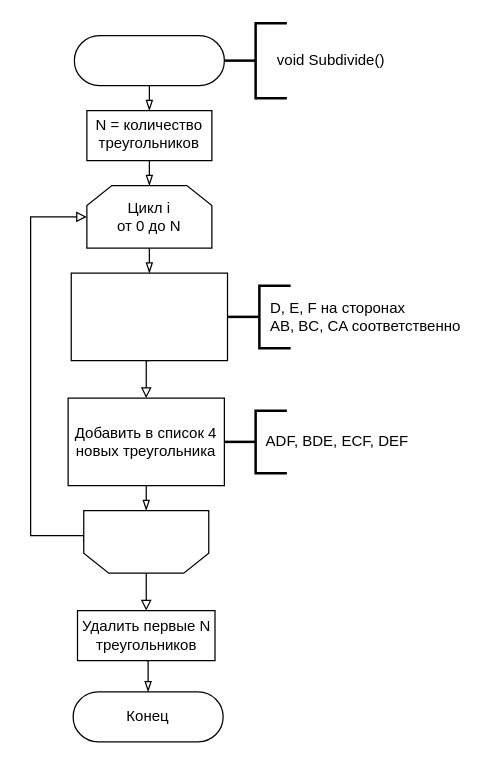
The diagram is 503 pixels wide and 764 high, and some of its shapes have lost their labels. Here are the shapes that lost their labels. From the top down, the centre of each, then its label:
the point at 148,60: Начало
the point at 149,316: Добавить вершины на серединах сторон i-го треугольника
the point at 145,541: Увеличить i на 1 Цикл i
